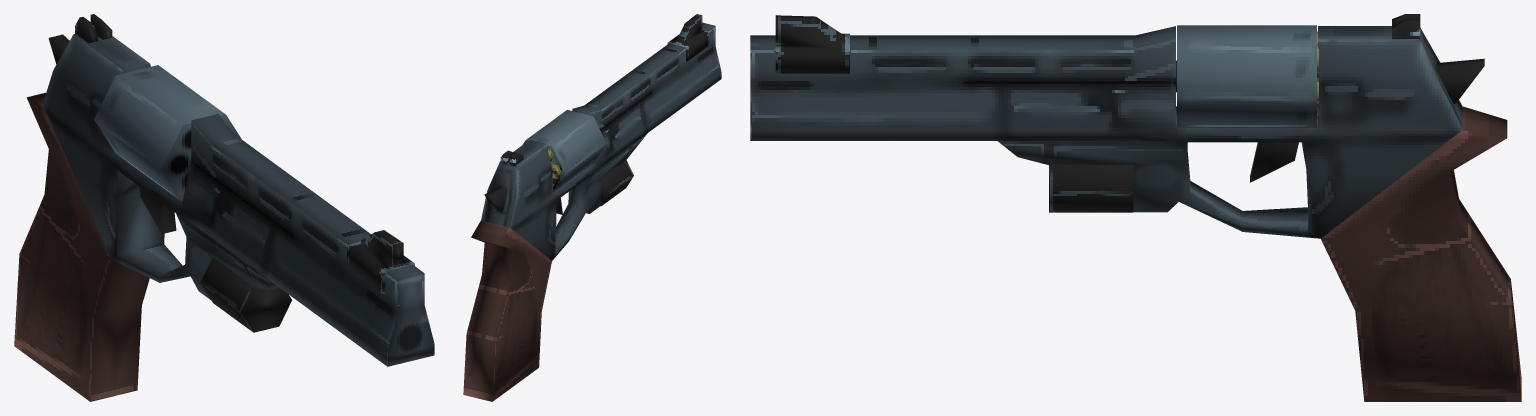
The model's file is magnum1.glb.
3 views of the same model, side by side, from view 1: azimuth 30°, elevation 25°; view 2: azimuth 150°, elevation 25°; view 3: azimuth 270°, elevation 25° (orthographic). The views are drawn at different scales.
Parts seen in each view (by area): view 1: magnum; view 2: magnum; view 3: magnum.
Boxes of the visible parts, bbox=[...] form: magnum: bbox=[14, 14, 434, 401]; magnum: bbox=[463, 14, 721, 401]; magnum: bbox=[750, 14, 1521, 401].
Bounding box in the file's own units: 0.7271 × 2.92 × 5.48.
Materials: 1 (1 with a texture image).
